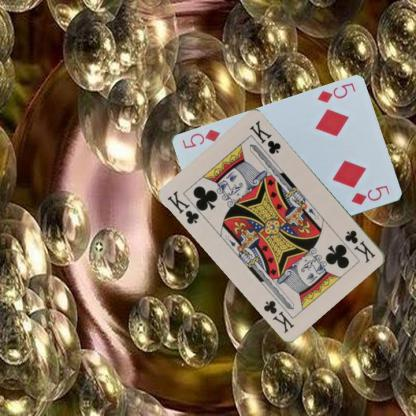5d: (314, 80, 356, 105)
Kc: (165, 188, 201, 226), (343, 227, 377, 265)
